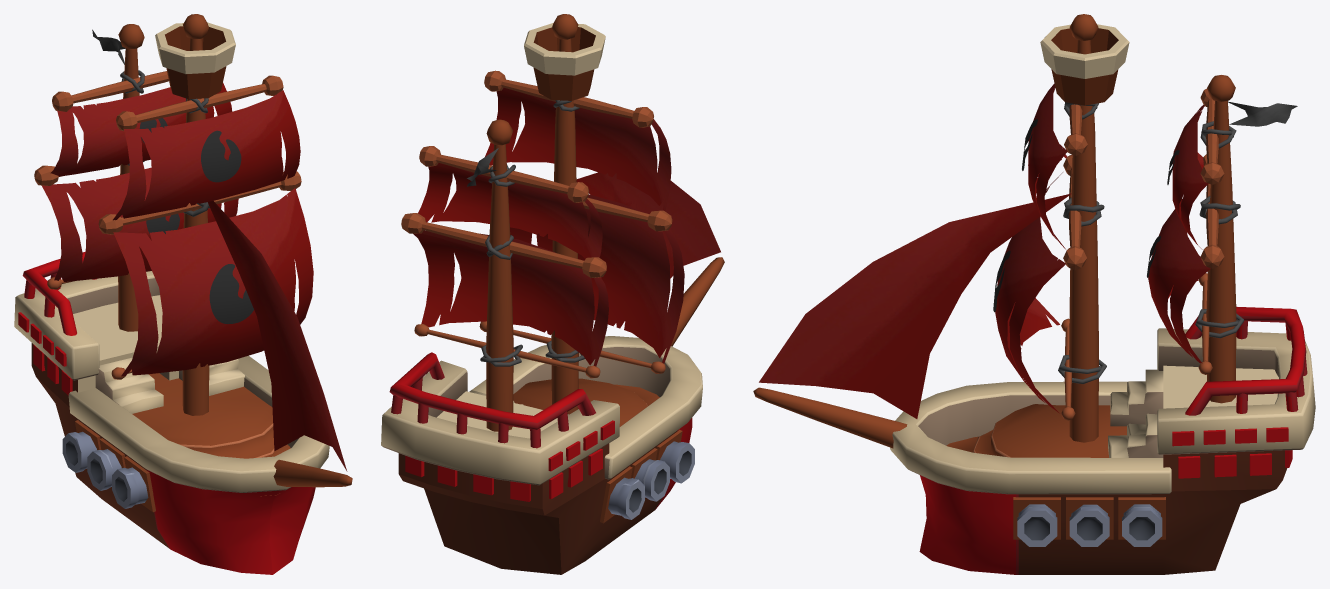
Rendered from Ship_Red_Big.fbx.
3 renders of one model, left to right at view 1: azimuth 30°, elevation 25°; view 2: azimuth 150°, elevation 25°; view 3: azimuth 270°, elevation 25°, orthographic. The views are drawn at different scales.
Parts seen in each view (by area): view 1: Color_034, Color_Cloth_002, Color_Guns_008, Color_Guns_007, Color_Guns_009; view 2: Color_034, Color_Cloth_002, Color_Guns_009, Color_Guns_007, Color_Guns_008; view 3: Color_034, Color_Cloth_002, Color_Guns_010, Color_Guns_012, Color_Guns_011.
Boxes of the visible parts, x1,y1,x2,y2 form: Color_034: [14, 14, 352, 574]; Color_Cloth_002: [42, 29, 347, 471]; Color_Guns_008: [112, 467, 148, 508]; Color_Guns_007: [87, 449, 121, 490]; Color_Guns_009: [62, 431, 96, 472]; Color_034: [381, 14, 724, 574]; Color_Cloth_002: [413, 88, 720, 366]; Color_Guns_009: [608, 477, 644, 519]; Color_Guns_007: [635, 459, 669, 501]; Color_Guns_008: [660, 441, 694, 483]; Color_034: [753, 14, 1315, 574]; Color_Cloth_002: [759, 83, 1297, 418]; Color_Guns_010: [1017, 504, 1057, 546]; Color_Guns_012: [1122, 504, 1162, 546]; Color_Guns_011: [1069, 504, 1109, 546].
Bounding box in the file's own units: 19.11 × 45.85 × 43.25.
